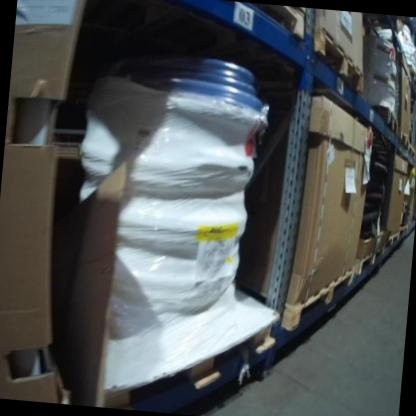pallet: (83, 268, 284, 416), (258, 245, 361, 339), (310, 28, 371, 96), (225, 2, 310, 37), (351, 235, 388, 281), (366, 104, 401, 137), (377, 226, 400, 260), (395, 131, 410, 155), (407, 139, 416, 165)
